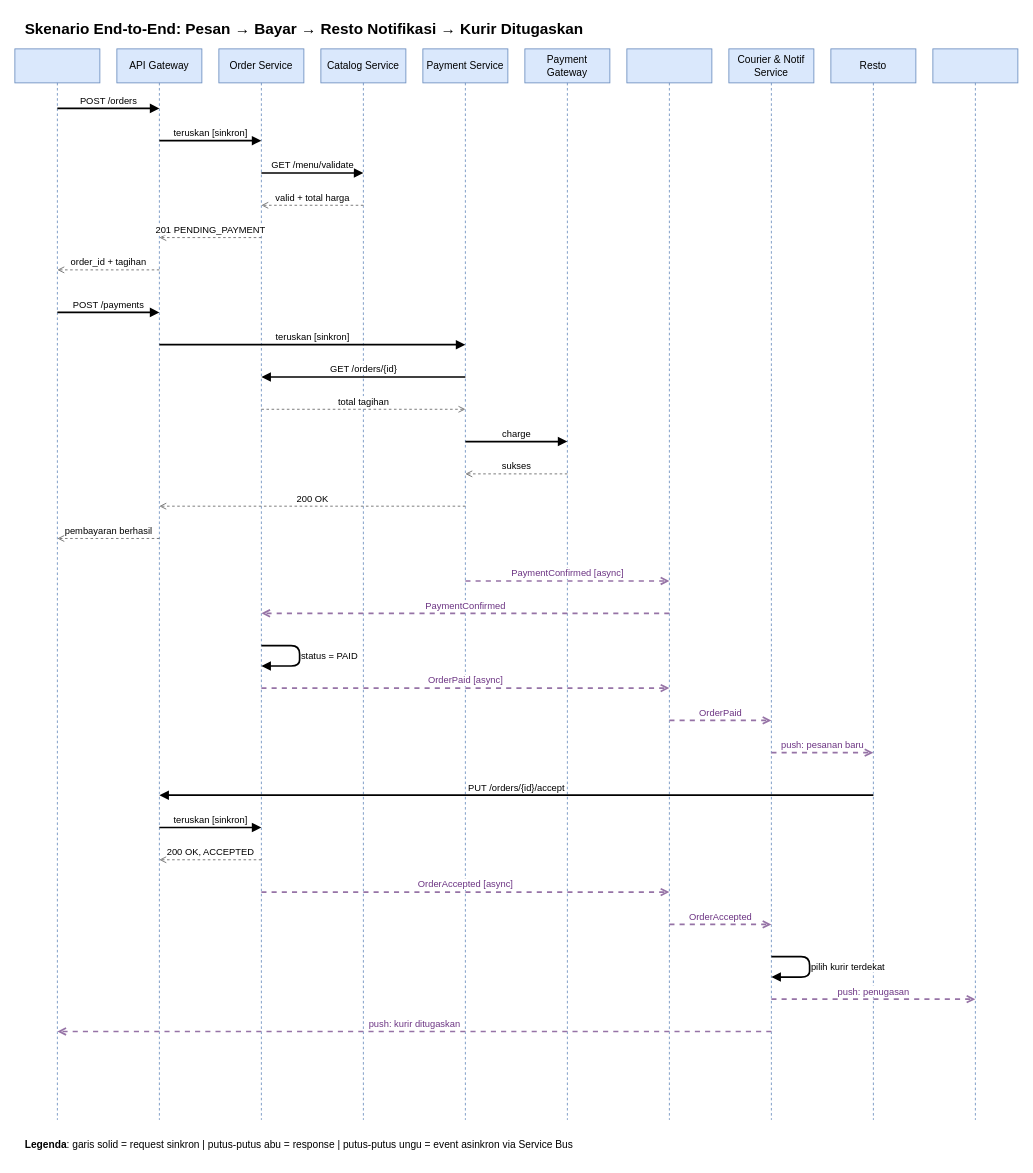
The diagram is 1033 pixels wide and 1173 high, and some of its shapes have lost their labels. The shapes that lost their labels are listed below. From the top down, each one's box as (x1, y1, x2, y2) in pixels, then its label:
(14, 48, 100, 1120): Pelanggan
(626, 48, 712, 1120): Service Bus
(932, 48, 1018, 1120): Kurir
